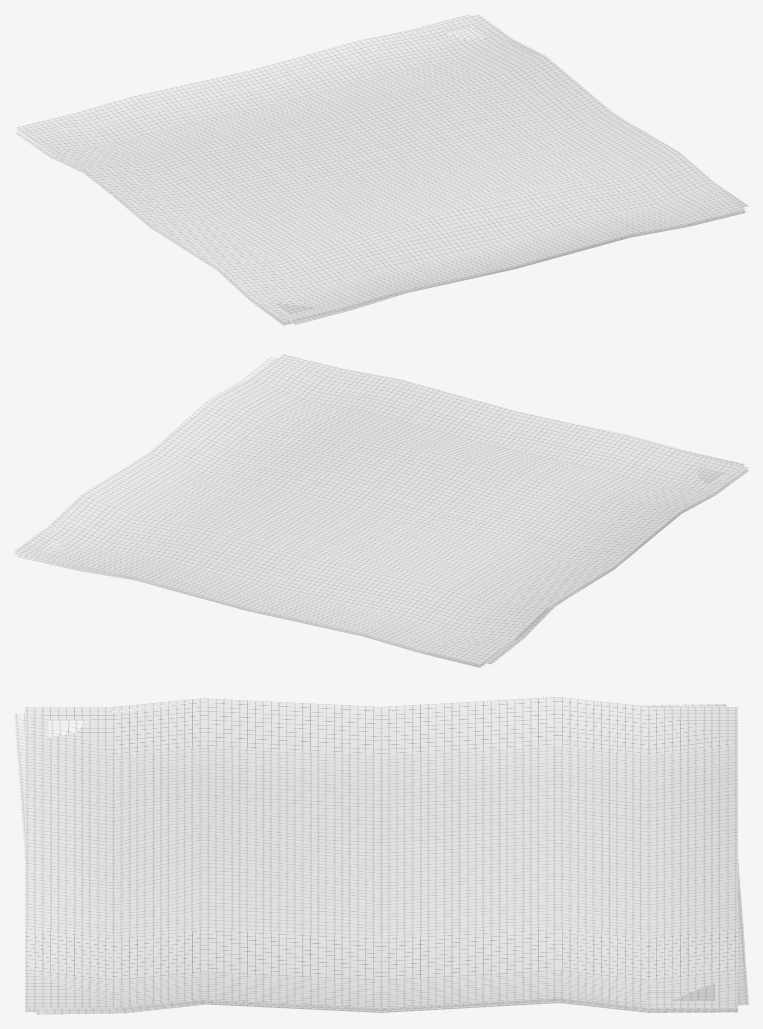
The model's file is lint free cloth.fbx.
3 views of the same model, one above another, from view 1: azimuth 30°, elevation 25°; view 2: azimuth 150°, elevation 25°; view 3: azimuth 270°, elevation 25° (orthographic). The views are drawn at different scales.
Visible parts, largest first — view 1: lint_free_cloth; view 2: lint_free_cloth; view 3: lint_free_cloth.
Boxes of the visible parts, <box> form: lint_free_cloth: <box>14,14,748,325</box>; lint_free_cloth: <box>14,354,748,667</box>; lint_free_cloth: <box>14,696,748,1014</box>.
Bounding box in the file's own units: 6.6 × 0.5174 × 6.6.
